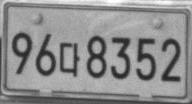2: (160, 37, 181, 82)
3: (110, 36, 131, 79)
5: (135, 37, 157, 81)
6: (35, 33, 57, 76)
8: (86, 35, 107, 78)
9: (10, 30, 33, 75)
다: (59, 41, 80, 77)
